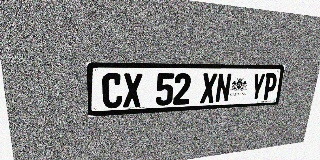2: (173, 73, 191, 105)
5: (156, 73, 174, 106)
C: (102, 73, 122, 109)
N: (215, 73, 232, 103)
P: (262, 73, 278, 100)
X: (123, 73, 142, 108), (200, 73, 217, 103)
Y: (249, 73, 266, 101)
